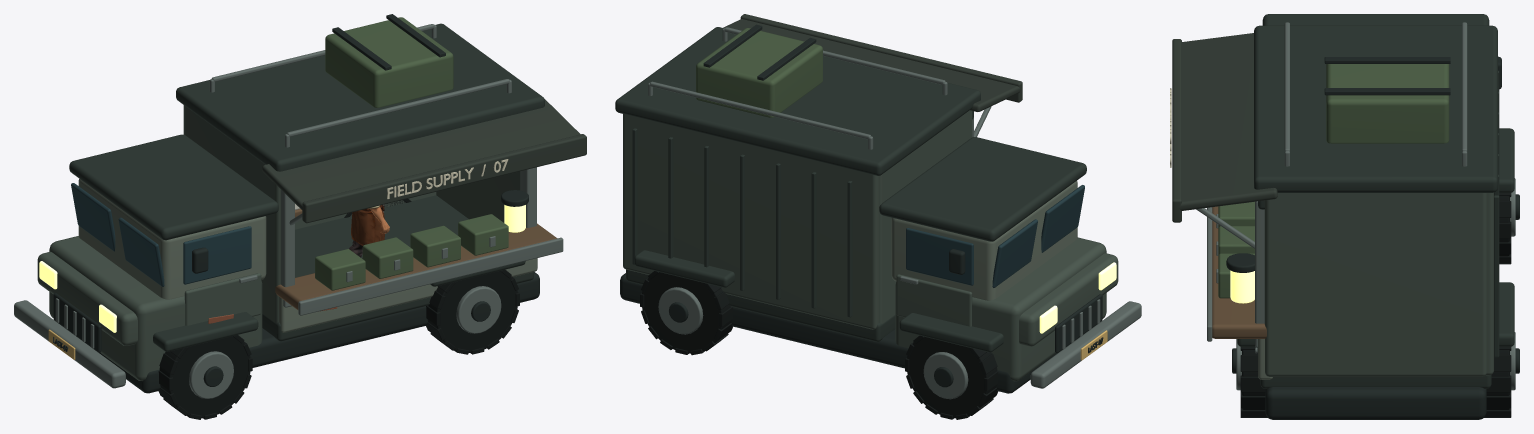
File: supply_truck.glb
3 renders of one model, left to right at view 1: azimuth 30°, elevation 25°; view 2: azimuth 150°, elevation 25°; view 3: azimuth 270°, elevation 25°, orthographic. The views are drawn at different scales.
Parts seen in each view (by area): view 1: CargoRoof, CabRoof, Awning, RoofCrate, CabLower, CargoFloor, AwningEdge, CabUpper, Chassis, CargoFront, CounterEdge, Tire (+27 smaller); view 2: CargoBack, CargoRoof, CabRoof, RoofCrate, CabLower, CabUpper, Chassis, CargoFront, Awning, Tire.001, Hood, Tire.003 (+23 smaller); view 3: CargoEnd, CargoRoof, Awning, RoofCrate, Chassis, CabRoof, ServingCounter, CargoFloor, AwningEdge, CargoBack, WindowPost.001, Fender.001 (+17 smaller).
Boxes of the visible parts, bbox=[...] form: CargoRoof: bbox=[176, 23, 544, 171]; CabRoof: bbox=[69, 134, 278, 240]; Awning: bbox=[262, 99, 580, 210]; RoofCrate: bbox=[325, 17, 453, 107]; CabLower: bbox=[49, 236, 262, 380]; CargoFloor: bbox=[262, 195, 533, 341]; AwningEdge: bbox=[302, 134, 586, 223]; CabUpper: bbox=[78, 179, 266, 299]; Chassis: bbox=[53, 272, 539, 393]; CargoFront: bbox=[184, 106, 280, 322]; CounterEdge: bbox=[298, 237, 563, 315]; Tire: bbox=[159, 336, 250, 418]; CargoBack: bbox=[623, 114, 878, 329]; CargoRoof: bbox=[615, 27, 980, 175]; CabRoof: bbox=[879, 137, 1086, 241]; RoofCrate: bbox=[696, 28, 822, 117]; CabLower: bbox=[895, 237, 1106, 381]; CabUpper: bbox=[891, 181, 1077, 300]; Chassis: bbox=[620, 273, 1102, 393]; CargoFront: bbox=[879, 110, 972, 323]; Awning: bbox=[723, 19, 1020, 111]; Tire.001: bbox=[907, 336, 997, 418]; Hood: bbox=[1019, 253, 1118, 346]; Tire.003: bbox=[642, 272, 731, 353]; CargoEnd: bbox=[1264, 193, 1486, 376]; CargoRoof: bbox=[1254, 25, 1497, 192]; Awning: bbox=[1178, 33, 1277, 210]; RoofCrate: bbox=[1326, 64, 1449, 143]; Chassis: bbox=[1265, 387, 1486, 419]; CabRoof: bbox=[1262, 14, 1489, 25]; ServingCounter: bbox=[1212, 206, 1266, 338]; CargoFloor: bbox=[1260, 375, 1491, 388]; AwningEdge: bbox=[1172, 39, 1181, 222]; CargoBack: bbox=[1486, 192, 1493, 375]; WindowPost.001: bbox=[1255, 201, 1264, 347]; Fender.001: bbox=[1499, 128, 1514, 192].
Bounding box in the file's own units: 6.11 × 3.62 × 3.56.
Materials: 17 (1 with a texture image).
